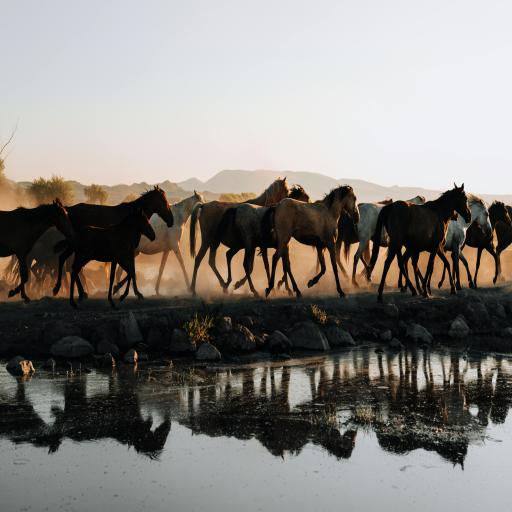horse: (187, 172, 293, 299), (373, 178, 473, 310), (212, 181, 323, 299), (259, 180, 363, 302), (70, 181, 172, 303), (68, 203, 156, 312), (135, 178, 207, 305), (0, 192, 78, 307), (426, 189, 501, 294), (357, 189, 431, 295), (483, 172, 512, 290)
